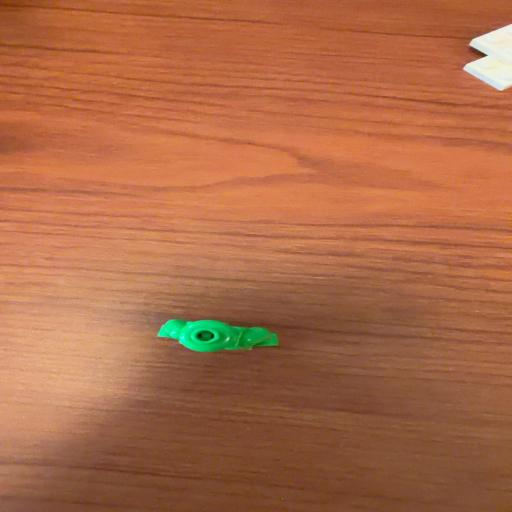UnoQ-minifig-detector: (157, 319, 279, 352)
